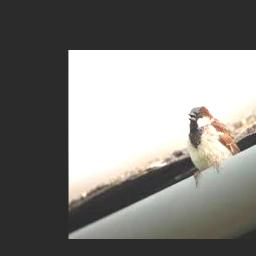Sparrow: (187, 106, 241, 183)
